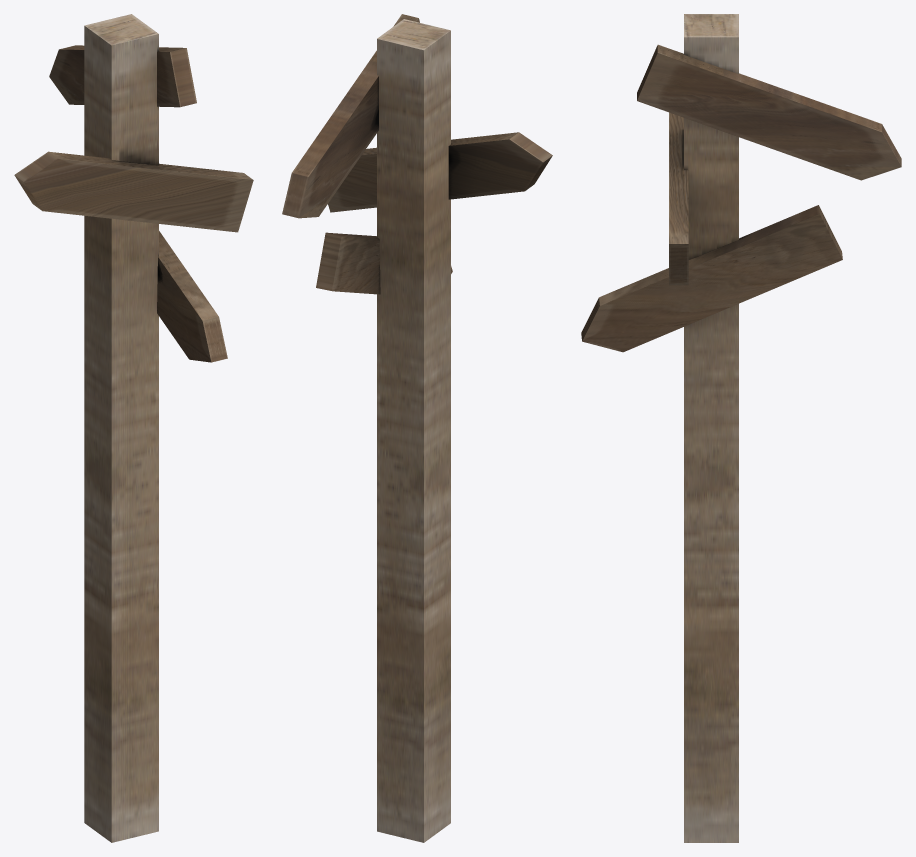
The model's file is Sign Post2.fbx.
The picture shows the model from 3 angles, left to right: view 1: azimuth 30°, elevation 25°; view 2: azimuth 150°, elevation 25°; view 3: azimuth 270°, elevation 25°; orthographic projection.
Visible parts, largest first — view 1: Cube, Cube.003, Cube.002, Cube.001; view 2: Cube, Cube.003, Cube.001, Cube.002; view 3: Cube, Cube.001, Cube.002, Cube.003.
Boxes of the visible parts, x1,y1,x2,y2 form: Cube: [84, 14, 158, 842]; Cube.003: [14, 151, 253, 232]; Cube.002: [157, 231, 227, 362]; Cube.001: [49, 45, 196, 107]; Cube: [377, 19, 450, 842]; Cube.003: [328, 132, 552, 212]; Cube.001: [282, 14, 419, 218]; Cube.002: [316, 232, 452, 294]; Cube: [684, 14, 738, 842]; Cube.001: [637, 44, 901, 180]; Cube.002: [581, 205, 842, 352]; Cube.003: [669, 112, 688, 285].
Bounding box in the file's own units: 253 × 839 × 303.
1 material, 1 textured.
